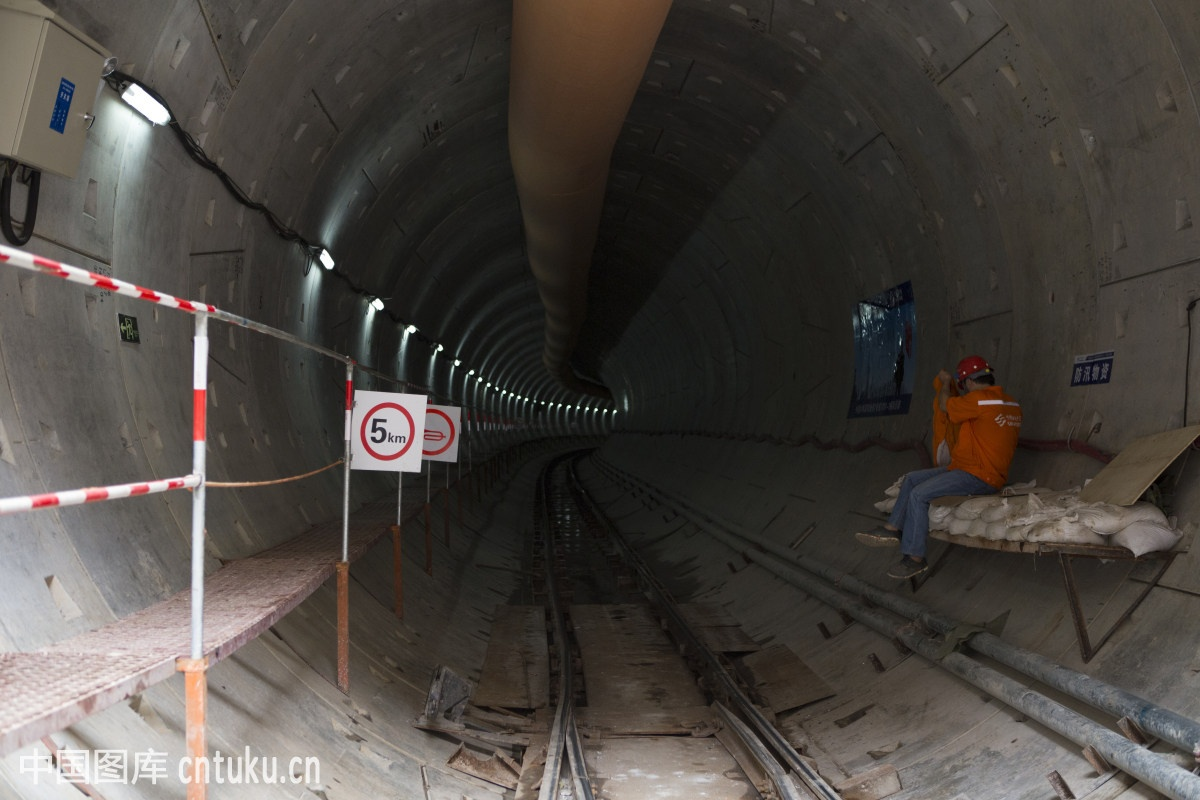red: (952, 352, 995, 395)
